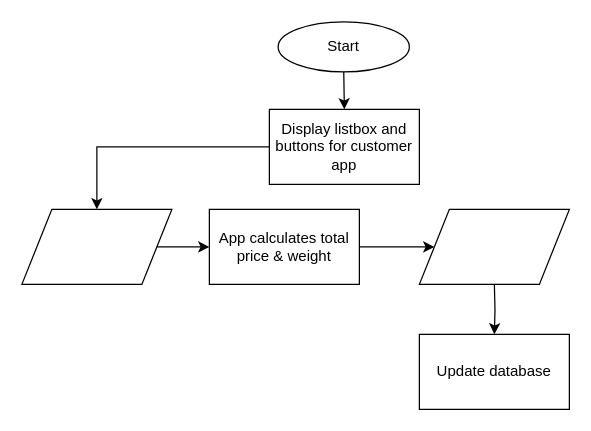
Image size: 591x431. Some labels were removed from this diagram. Here are the shapes that lost their labels. From the top down, the centre of each, then its label:
point 96,246: Customer adds an item
point 493,246: Customer prints his/her order
